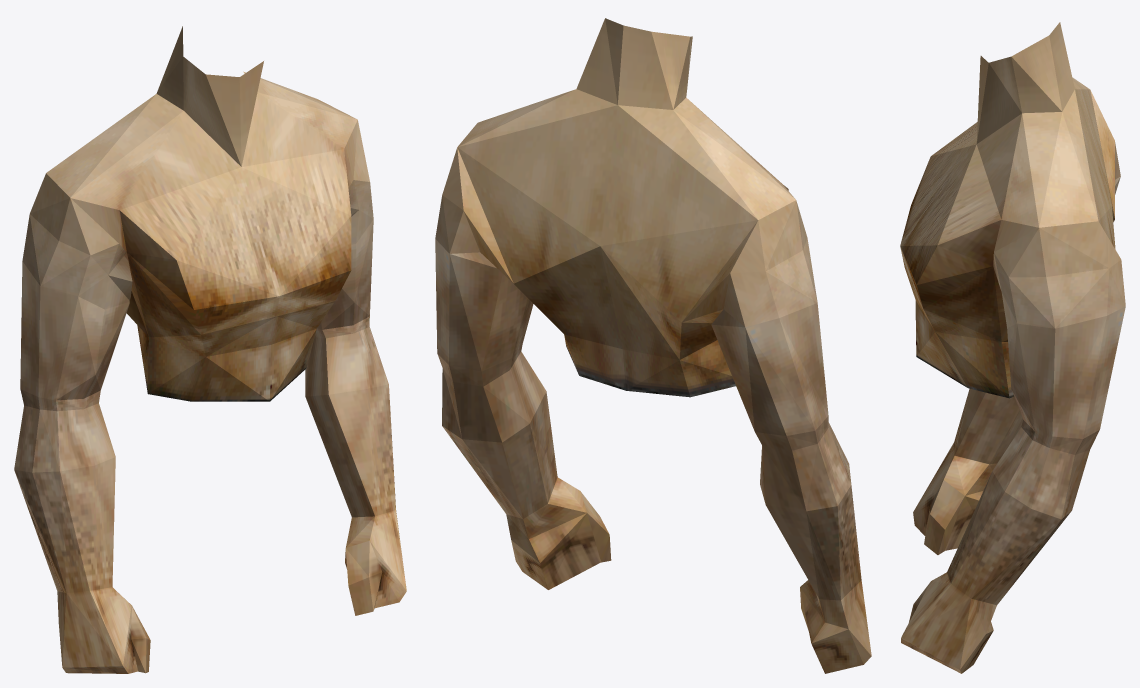
Rendered from Armor_Prisoner.glb.
3 renders of one model, left to right at view 1: azimuth 30°, elevation 25°; view 2: azimuth 150°, elevation 25°; view 3: azimuth 270°, elevation 25°, orthographic. The views are drawn at different scales.
Parts seen in each view (by area): view 1: Armor_Prisonerzm_Body; view 2: Armor_Prisonerzm_Body; view 3: Armor_Prisonerzm_Body.
Boxes of the visible parts, box(x1,y1,x2,y2) form: Armor_Prisonerzm_Body: box(14, 26, 406, 673); Armor_Prisonerzm_Body: box(435, 18, 871, 673); Armor_Prisonerzm_Body: box(900, 22, 1125, 673).
Size of the model in its own units: 0.5958 by 0.9267 by 0.3184.
1 material, 1 textured.
